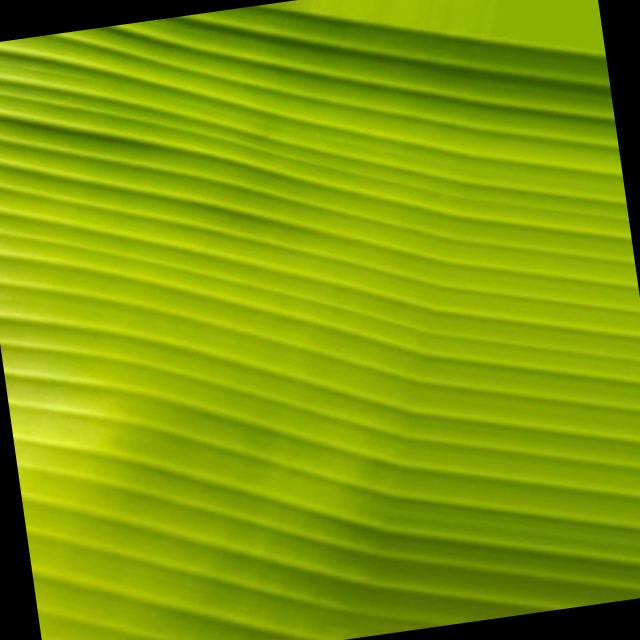Banana_Healthy: (125, 67, 578, 578)
